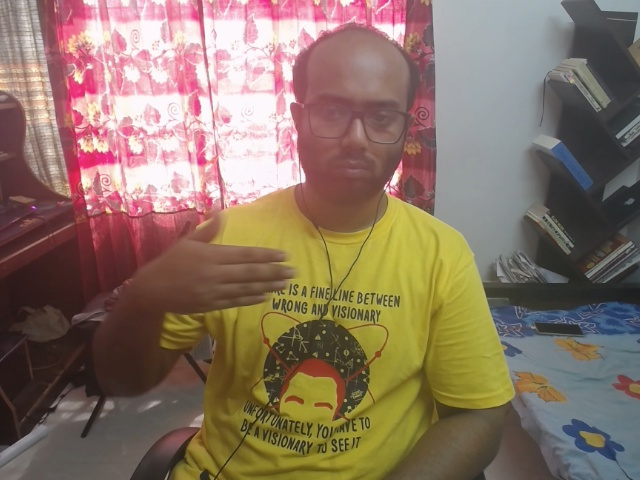north: (135, 200, 336, 353)
